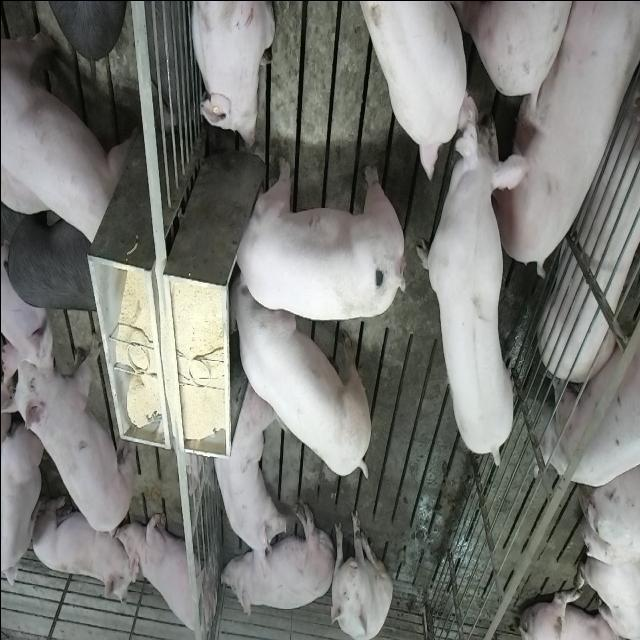Feeding: (228, 274, 376, 480), (232, 156, 409, 322)
Lateral_lying: (481, 0, 636, 273), (220, 501, 334, 618)
Sitting: (125, 508, 216, 640), (328, 506, 392, 640)
Standing: (421, 85, 522, 466), (1, 18, 130, 247), (4, 312, 136, 530), (361, 0, 480, 180), (540, 293, 640, 483), (2, 198, 96, 316)
Sternal_lying: (207, 381, 284, 572), (186, 0, 274, 151), (30, 491, 134, 602)
